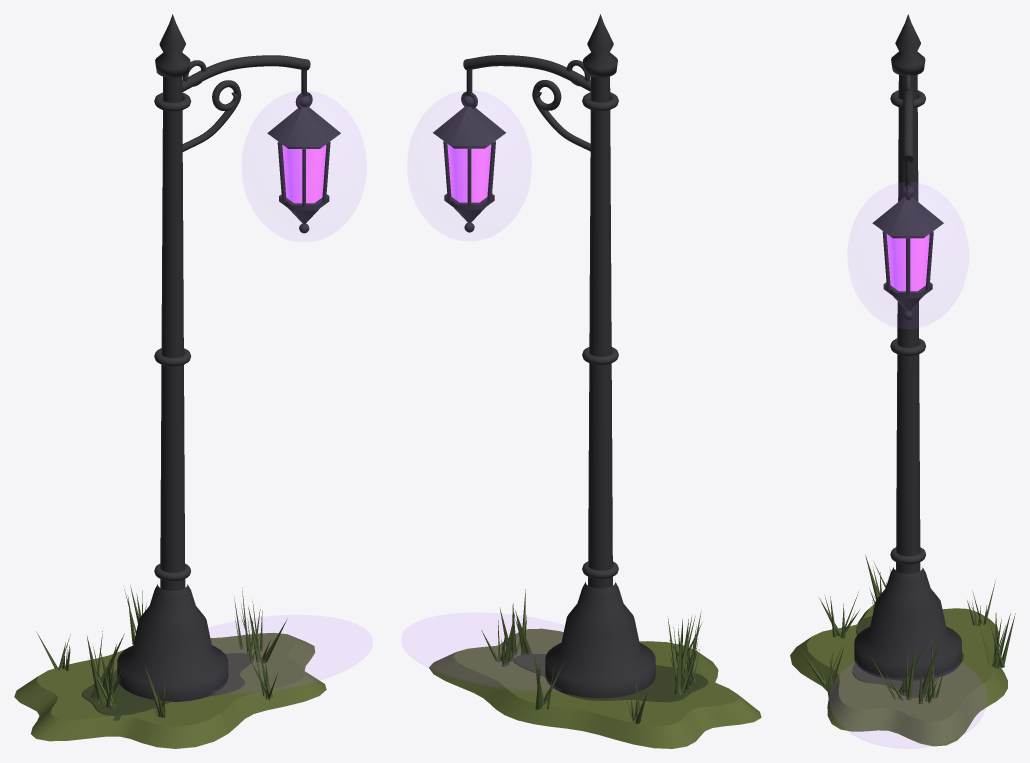
File: BAYOU_LAMP.glb
The picture shows the model from 3 angles, left to right: view 1: azimuth 30°, elevation 25°; view 2: azimuth 150°, elevation 25°; view 3: azimuth 270°, elevation 25°; orthographic projection. The views are drawn at different scales.
Parts seen in each view (by area): view 1: Ground, Post, Post_Base, Grass, Bracket, Ground_Mud, Glow_Lantern, Lantern_Cap, Post_Finial, Lantern_Frame; view 2: Ground, Post, Post_Base, Grass, Bracket, Ground_Mud, Glow_Lantern, Lantern_Cap, Post_Finial, Lantern_Frame; view 3: Ground, Post_Base, Post, Grass, Glow_Lantern, Lantern_Cap, Post_Finial, Bracket, Ground_Mud, Lantern_Frame.
Part boxes in pixels (box(x1,y1,x2,y2)): Ground: box(14, 632, 326, 748); Post: box(160, 76, 185, 590); Post_Base: box(117, 584, 228, 701); Grass: box(36, 586, 287, 717); Bracket: box(182, 55, 312, 151); Ground_Mud: box(81, 653, 254, 720); Glow_Lantern: box(282, 144, 326, 203); Lantern_Cap: box(267, 106, 340, 146); Post_Finial: box(155, 14, 190, 77); Lantern_Frame: box(277, 141, 330, 207); Ground: box(429, 628, 761, 748); Post: box(588, 76, 612, 588); Post_Base: box(545, 582, 655, 698); Grass: box(481, 589, 702, 723); Bracket: box(461, 55, 590, 151); Ground_Mud: box(513, 654, 708, 702); Glow_Lantern: box(447, 144, 491, 202); Lantern_Cap: box(433, 106, 505, 146); Post_Finial: box(583, 14, 617, 77); Lantern_Frame: box(443, 141, 495, 206); Ground: box(790, 604, 1007, 746); Post_Base: box(854, 567, 961, 680); Post: box(896, 75, 920, 573); Grass: box(799, 555, 1015, 703); Glow_Lantern: box(886, 234, 929, 291); Lantern_Cap: box(872, 197, 943, 236); Post_Finial: box(891, 14, 925, 75); Bracket: box(903, 74, 913, 200); Ground_Mud: box(852, 616, 963, 698); Lantern_Frame: box(882, 231, 933, 294).
Bounding box in the file's own units: 5.33 × 10.12 × 3.14.
